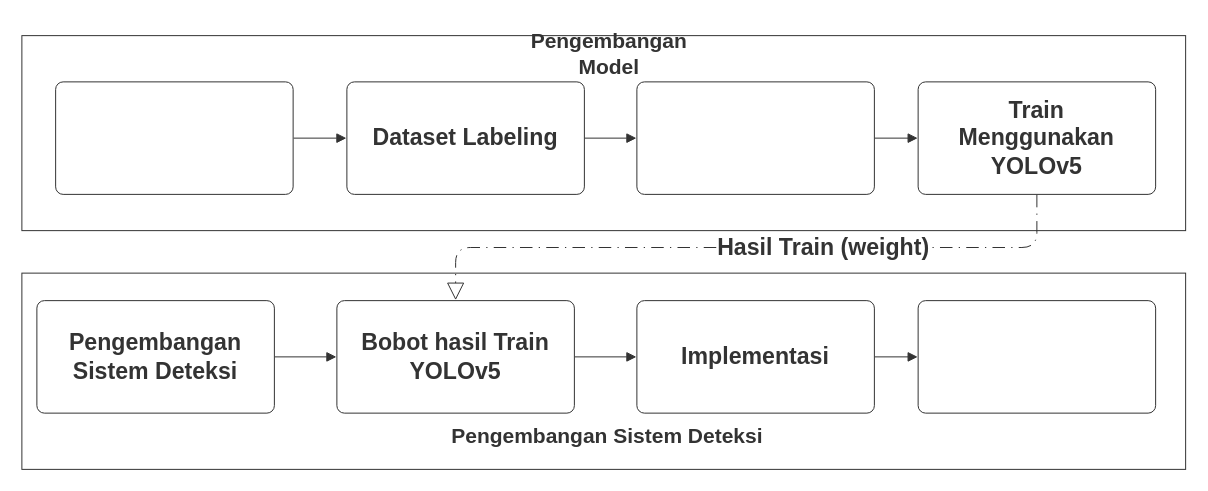
The diagram is 1208 pixels wide and 491 high, and some of its shapes have lost their labels. Each missing label, with the centre of its shape:
"Akuisisi Dataset" belongs at pixel 173 137.
"Dataset Preprocessing" belongs at pixel 755 137.
"Evaluasi" belongs at pixel 1036 356.
